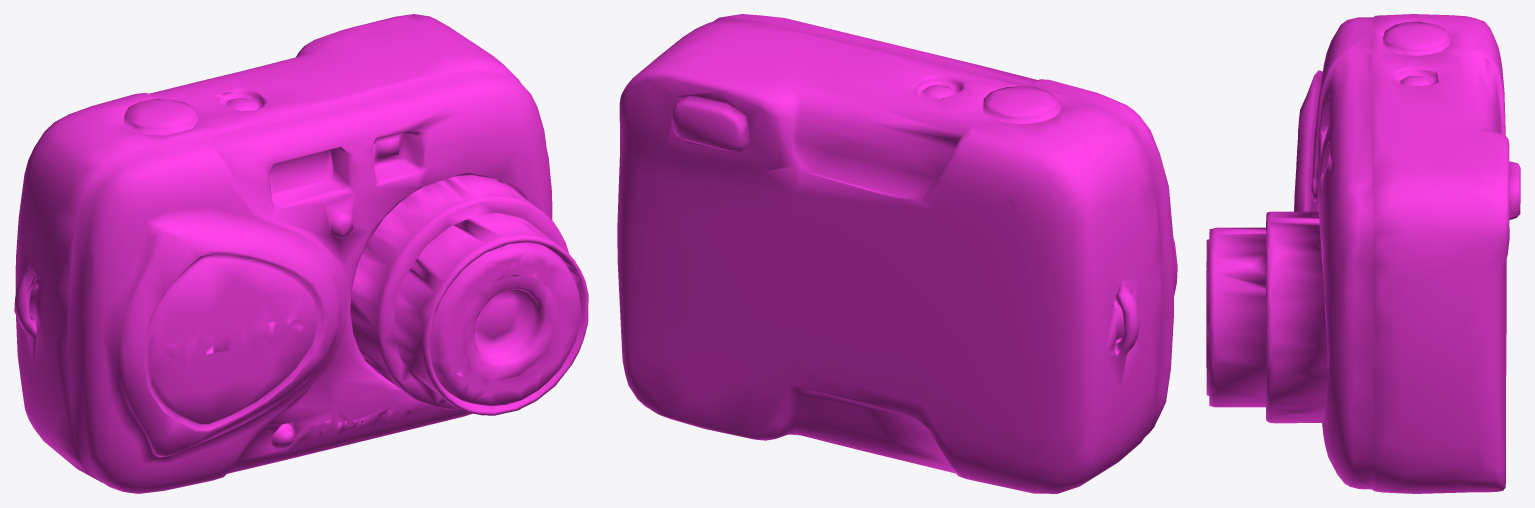
The model's file is Camera.glb.
3 views of the same model, side by side, from view 1: azimuth 30°, elevation 25°; view 2: azimuth 150°, elevation 25°; view 3: azimuth 270°, elevation 25° (orthographic). The views are drawn at different scales.
Parts seen in each view (by area): view 1: CCD相機; view 2: CCD相機; view 3: CCD相機.
Boxes of the visible parts, x1=… form: CCD相機: x1=14, y1=14, x2=588, y2=493; CCD相機: x1=617, y1=14, x2=1177, y2=493; CCD相機: x1=1206, y1=14, x2=1520, y2=493.
Size of the model in its own units: 0.05 by 0.0343 by 0.0301.
